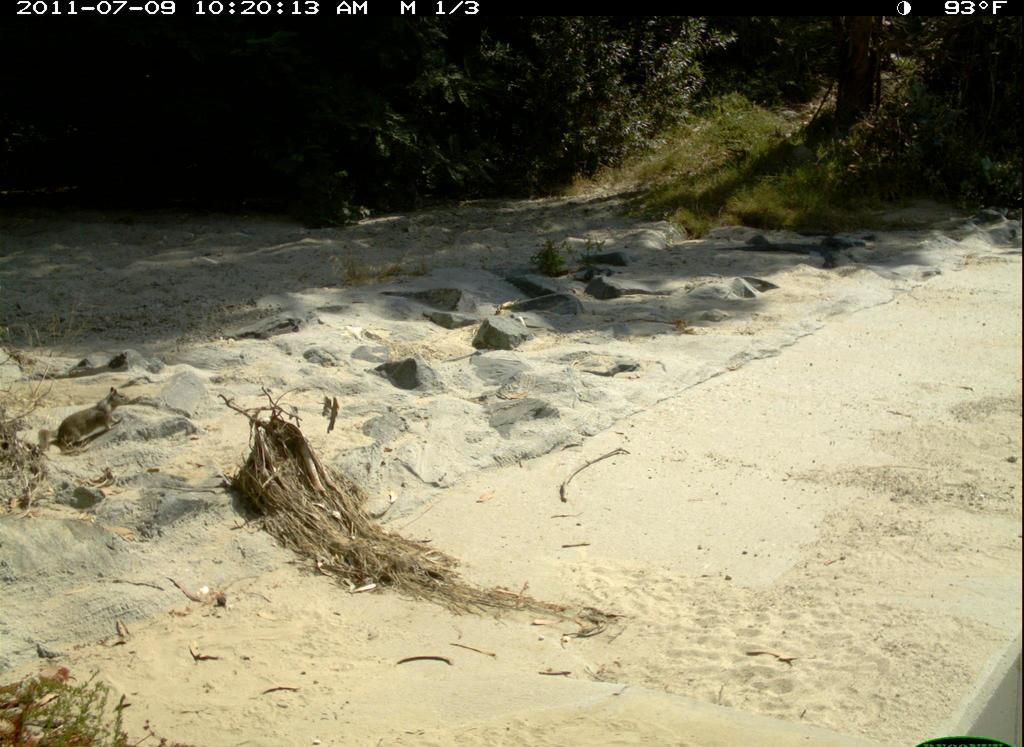squirrel: (30, 377, 136, 461)
